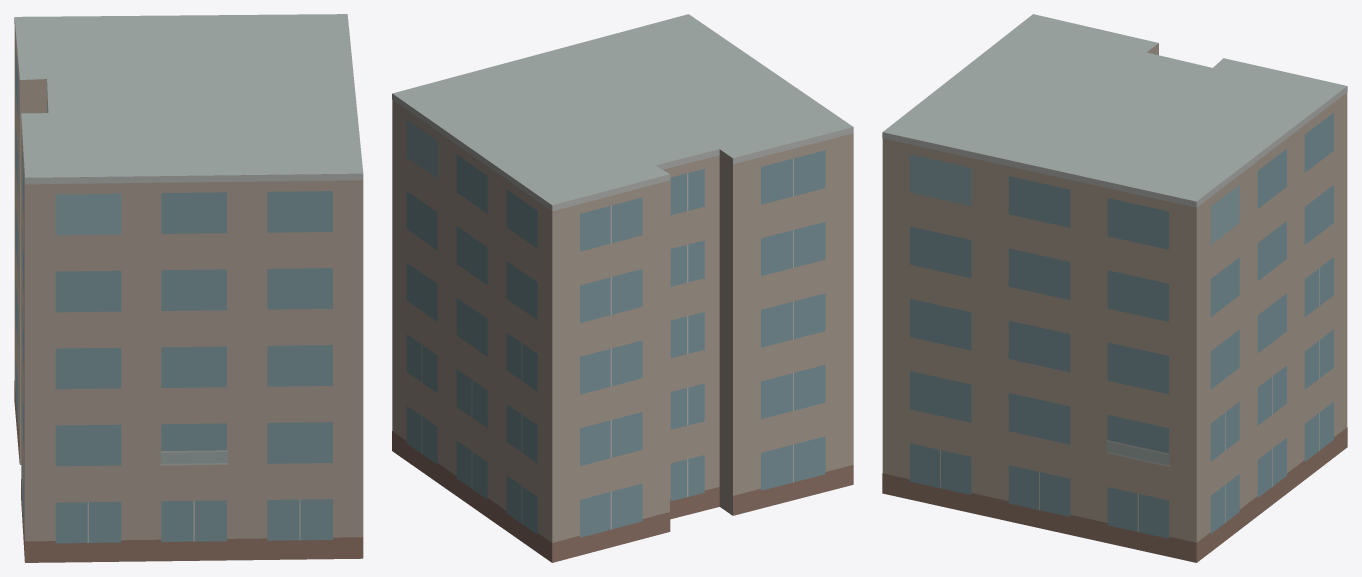
Rendered from survey-upis-32869199.glb.
3 views of the same model, side by side, from view 1: azimuth 30°, elevation 25°; view 2: azimuth 150°, elevation 25°; view 3: azimuth 270°, elevation 25° (orthographic). The views are drawn at different scales.
Visible parts, largest first — view 1: survey-upis-32869199.tmp; view 2: survey-upis-32869199.tmp; view 3: survey-upis-32869199.tmp.
Part boxes in pixels (x1,y1,x2,y2): survey-upis-32869199.tmp: (14,14,363,562); survey-upis-32869199.tmp: (392,14,853,562); survey-upis-32869199.tmp: (882,14,1347,562).
Bounding box in the file's own units: 15.93 × 14.3 × 16.69.
